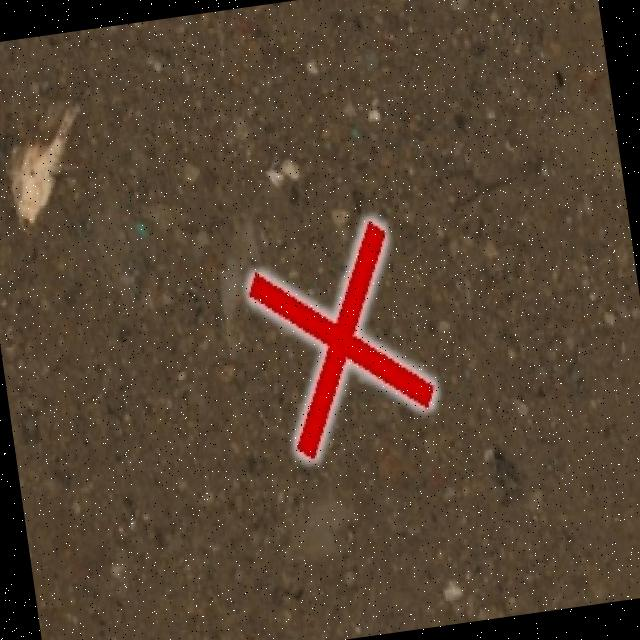x_marker: (241, 215, 441, 463)
